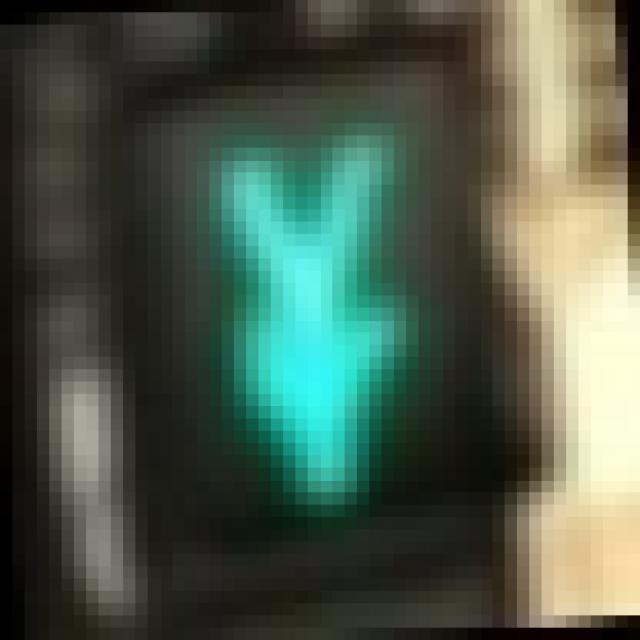geen-crossing: (111, 73, 492, 530)
